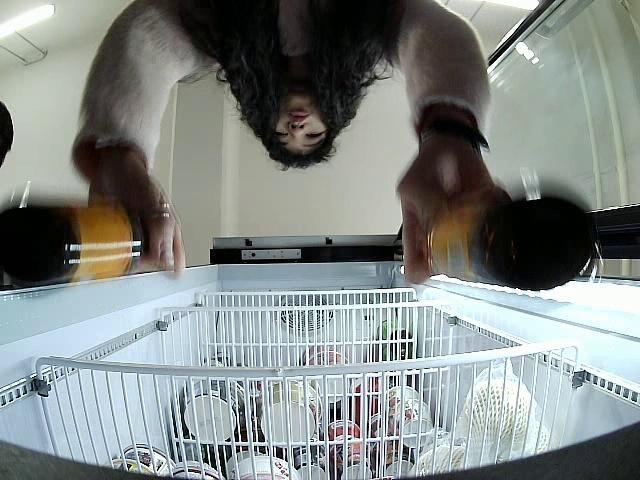17_vita500: (413, 191, 598, 290), (0, 196, 154, 285)
